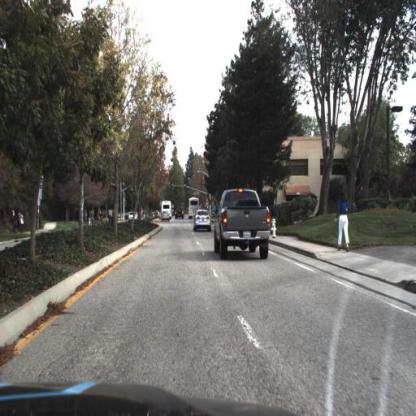biker: (90, 208, 96, 229)
car: (212, 189, 272, 262), (192, 209, 212, 233), (128, 208, 140, 224), (176, 208, 185, 219), (163, 212, 171, 222)
pedestrian: (337, 190, 349, 252)
